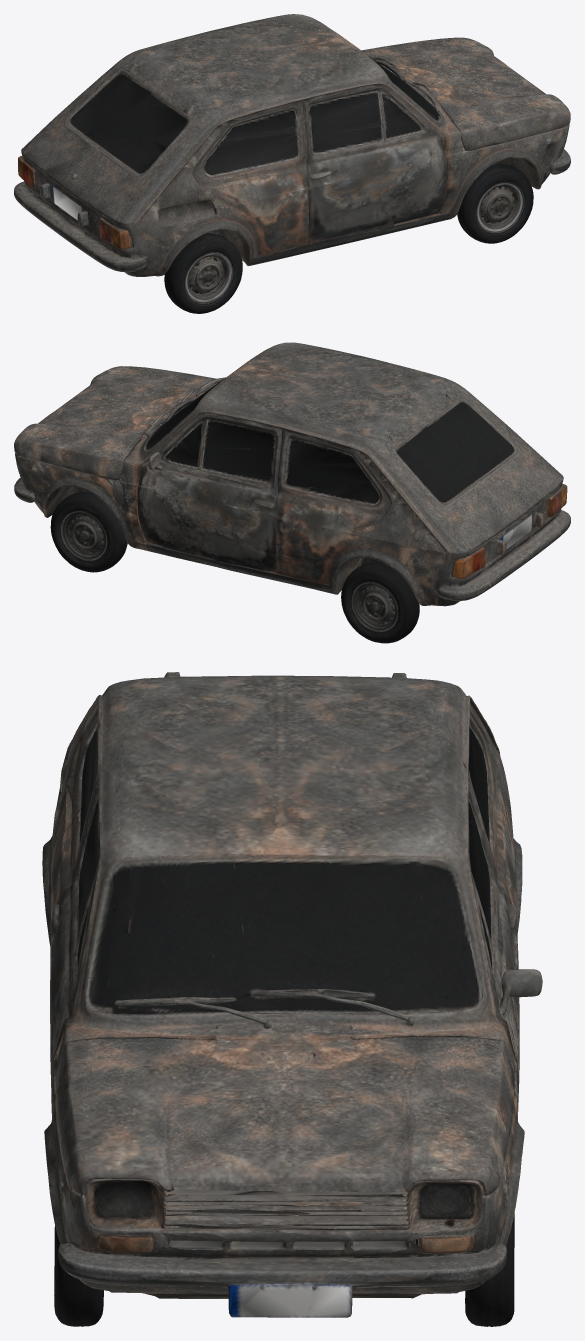
File: jabuti-queimado__01a16dcf.glb
3 renders of one model, top to bottom at view 1: azimuth 30°, elevation 25°; view 2: azimuth 150°, elevation 25°; view 3: azimuth 270°, elevation 25°, orthographic. The views are drawn at different scales.
Parts seen in each view (by area): view 1: jabuti-queimado; view 2: jabuti-queimado; view 3: jabuti-queimado.
Boxes of the visible parts, box(x1,y1,x2,y2) form: jabuti-queimado: box(14, 14, 570, 313); jabuti-queimado: box(14, 342, 570, 643); jabuti-queimado: box(42, 672, 542, 1326).
Size of the model in its own units: 3.62 by 1.42 by 1.67.
1 material, 1 textured.
